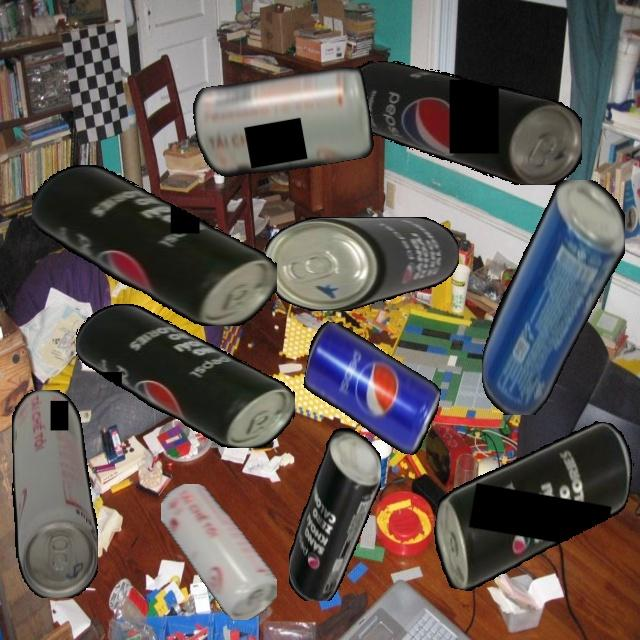debris: (425, 397, 640, 615), (32, 164, 277, 326), (481, 179, 625, 415), (76, 303, 295, 448), (341, 61, 582, 185), (189, 61, 377, 185), (295, 320, 449, 457), (265, 216, 459, 311), (11, 389, 98, 598), (288, 422, 381, 601), (161, 483, 277, 620)
